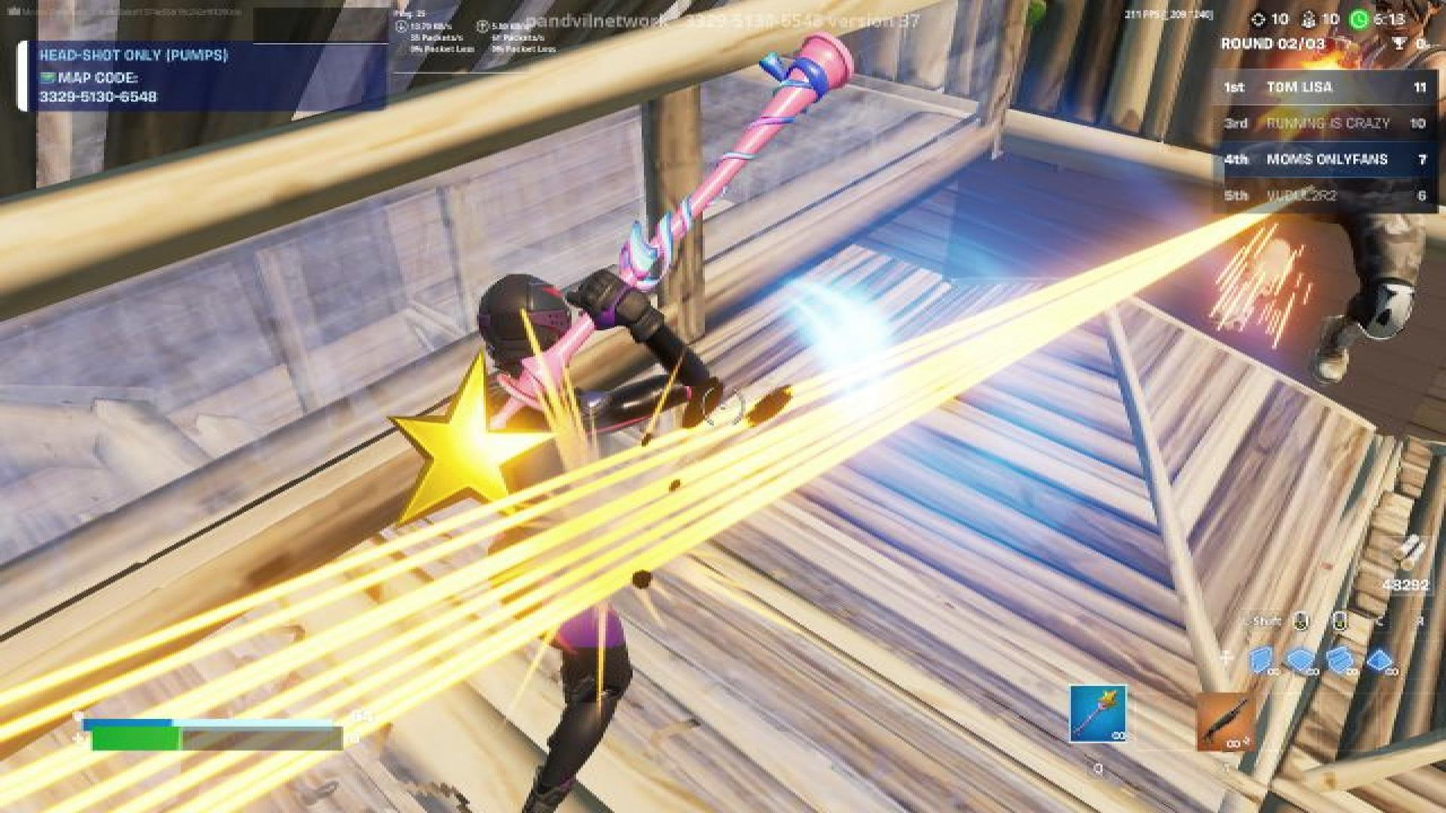player: (1191, 4, 1446, 358)
